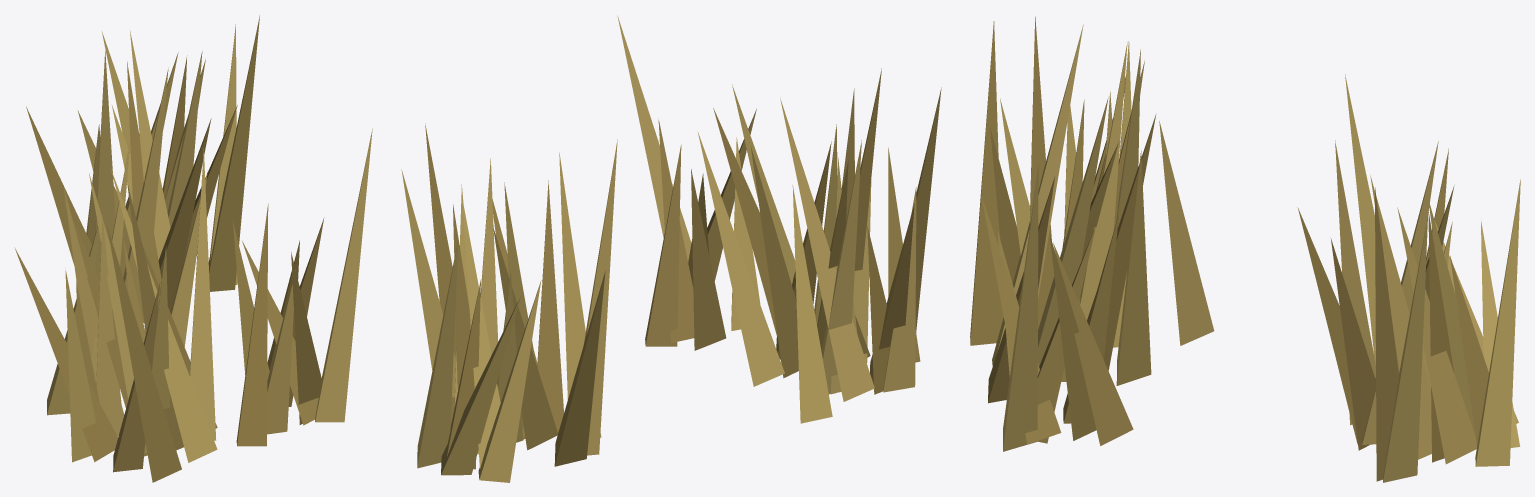
The model's file is cover_grass_dry.glb.
The picture shows the model from 3 angles, left to right: view 1: azimuth 30°, elevation 25°; view 2: azimuth 150°, elevation 25°; view 3: azimuth 270°, elevation 25°; orthographic projection. The views are drawn at different scales.
Parts seen in each view (by area): view 1: scatter_grass_dry; view 2: scatter_grass_dry; view 3: scatter_grass_dry.
Part boxes in pixels (left/top/right/bottom): scatter_grass_dry: left=14, top=15, right=372, bottom=482; scatter_grass_dry: left=401, top=15, right=941, bottom=482; scatter_grass_dry: left=970, top=16, right=1520, bottom=482.
Bounding box in the file's own units: 0.7107 × 0.5575 × 0.837.
